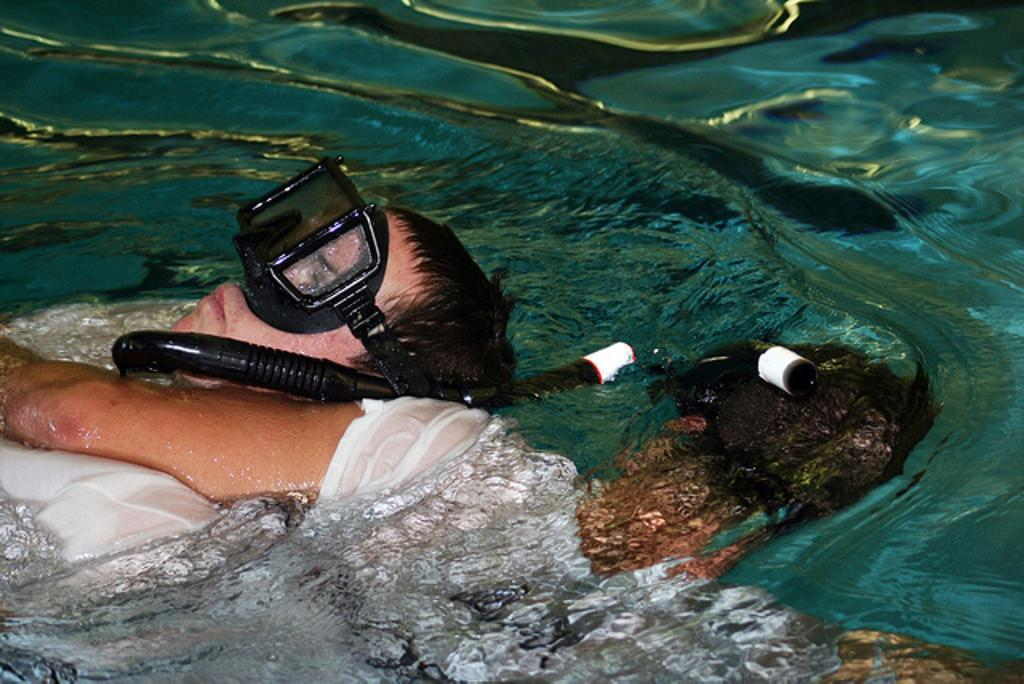face: (169, 231, 411, 383)
